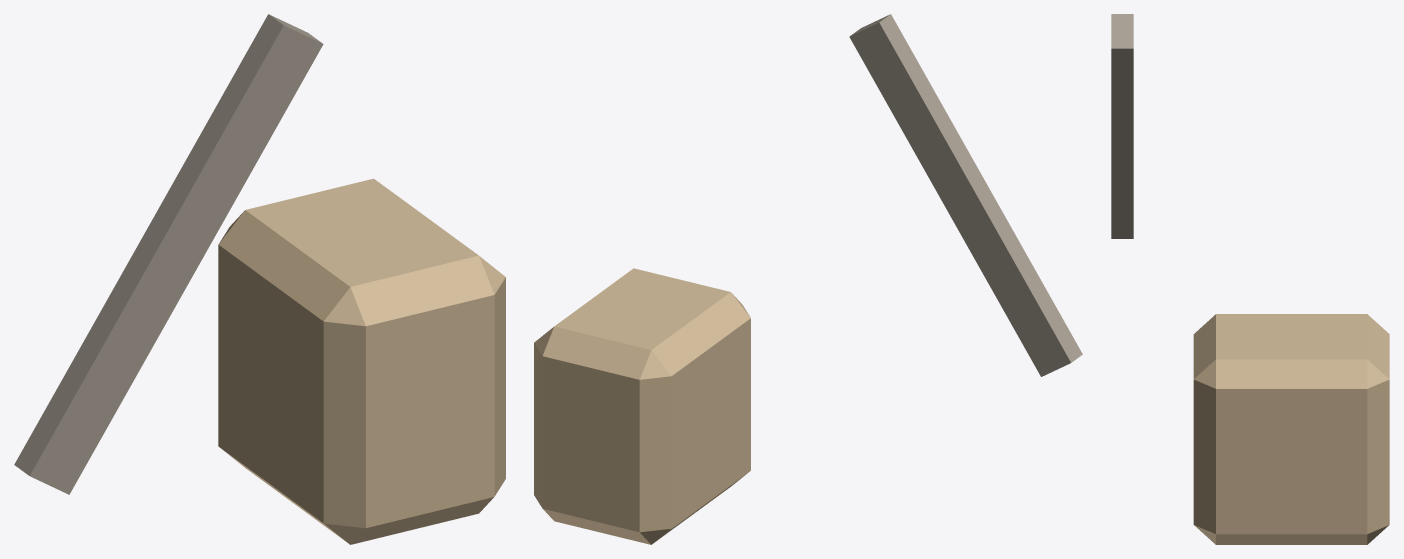
Rendered from SM_NPC_Accessory_01_Satchel.glb.
3 views of the same model, side by side, from view 1: azimuth 30°, elevation 25°; view 2: azimuth 150°, elevation 25°; view 3: azimuth 270°, elevation 25° (orthographic). The views are drawn at different scales.
Parts seen in each view (by area): view 1: SM_NPC_Accessory_01_Satchel; view 2: SM_NPC_Accessory_01_Satchel; view 3: SM_NPC_Accessory_01_Satchel.
Boxes of the visible parts, bbox=[...] form: SM_NPC_Accessory_01_Satchel: bbox=[14, 14, 505, 544]; SM_NPC_Accessory_01_Satchel: bbox=[534, 14, 1082, 544]; SM_NPC_Accessory_01_Satchel: bbox=[1111, 14, 1389, 544].
Bounding box in the file's own units: 0.5121 × 0.541 × 0.3125.
